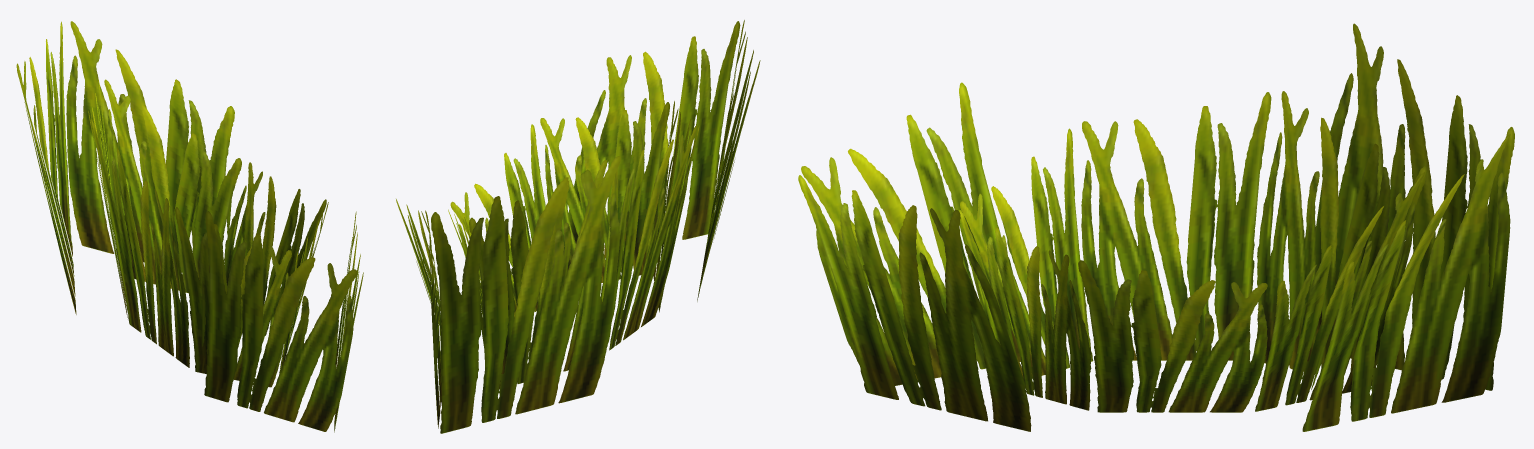
File: elwynnreeds01.obj
The picture shows the model from 3 angles, left to right: view 1: azimuth 30°, elevation 25°; view 2: azimuth 150°, elevation 25°; view 3: azimuth 270°, elevation 25°; orthographic projection. The views are drawn at different scales.
Visible parts, largest first — view 1: elwynnreeds01; view 2: elwynnreeds01; view 3: elwynnreeds01.
Part boxes in pixels (x1=…): elwynnreeds01: x1=16, y1=21, x2=363, y2=432; elwynnreeds01: x1=396, y1=20, x2=760, y2=433; elwynnreeds01: x1=798, y1=23, x2=1514, y2=431.
Bounding box in the file's own units: 1.48 × 1.6 × 3.44.
Materials: 1 (1 with a texture image).
